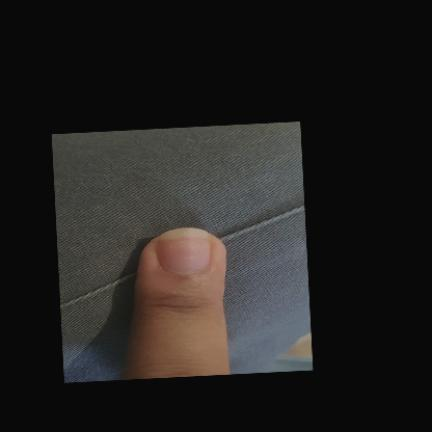Nail: (156, 228, 210, 274)
